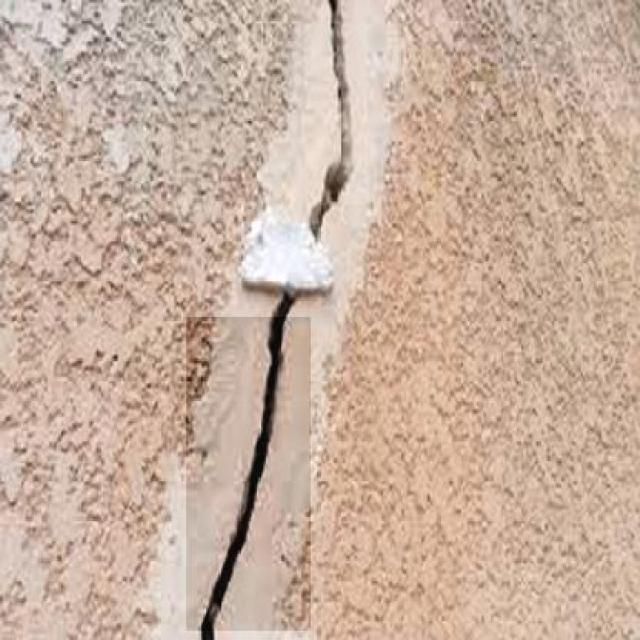Crack: (196, 298, 296, 637), (303, 0, 360, 255)
